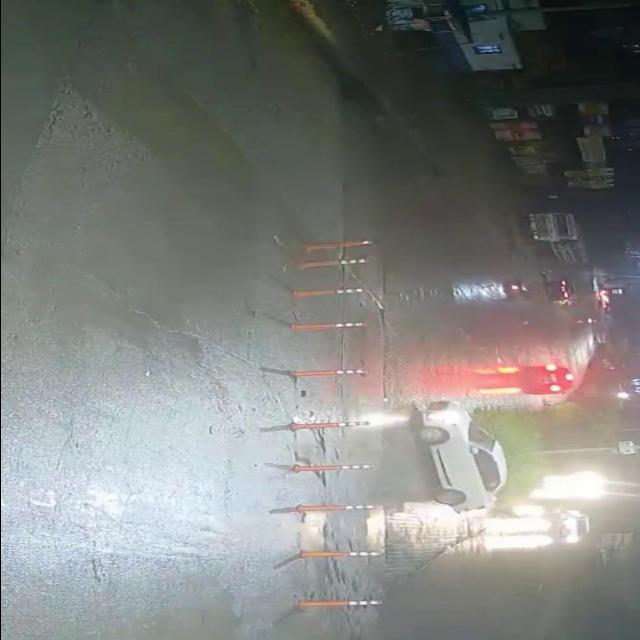accident: (490, 273, 542, 309)
